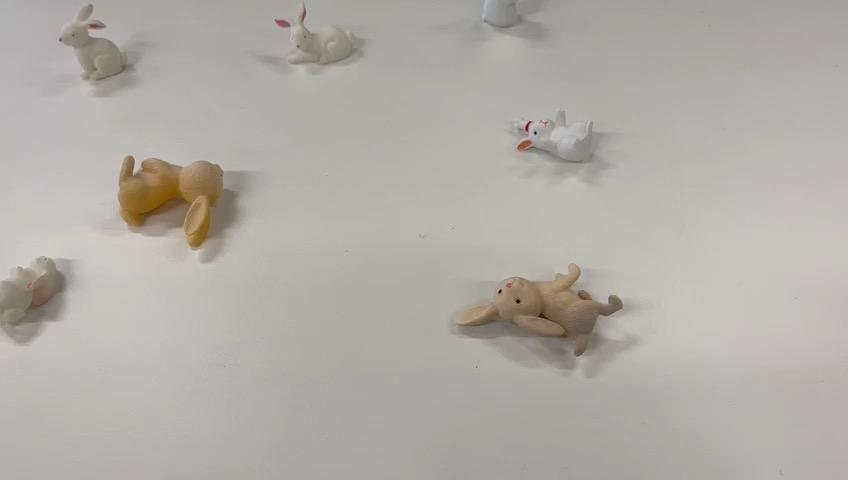pet: (101, 133, 266, 274), (451, 250, 640, 371), (513, 90, 640, 184), (0, 243, 87, 353), (268, 10, 384, 91), (61, 3, 141, 90)
